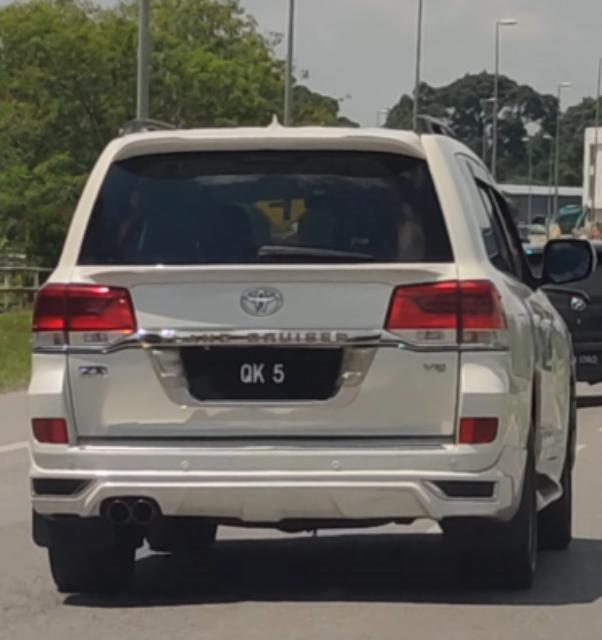License_Plate: (204, 357, 324, 398)
car: (28, 116, 602, 594)
